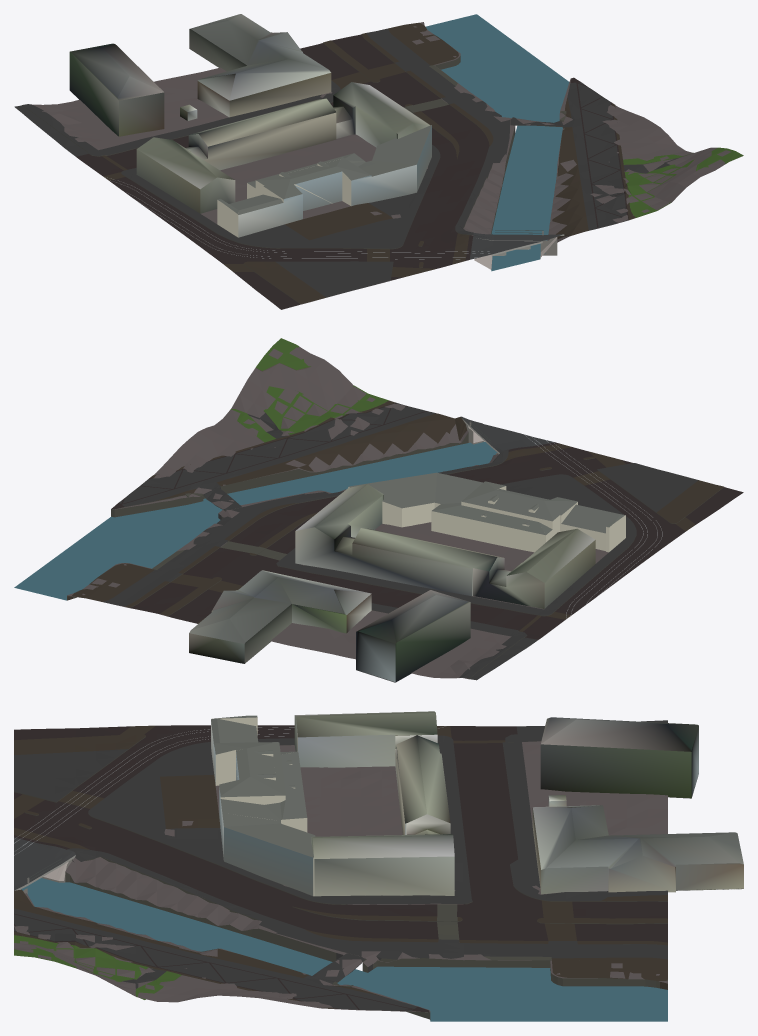
The picture shows the model from 3 angles, top to bottom: view 1: azimuth 30°, elevation 25°; view 2: azimuth 150°, elevation 25°; view 3: azimuth 270°, elevation 25°; orthographic projection. The views are drawn at different scales.
Parts seen in each view (by area): view 1: c_p02_p00; view 2: c_p02_p00; view 3: c_p02_p00, c_p02_p00_bridge_clipped_0.
Part boxes in pixels (x1,y1,x2,y2): c_p02_p00: [14, 14, 743, 309]; c_p02_p00: [14, 338, 743, 682]; c_p02_p00: [14, 711, 743, 1021]; c_p02_p00_bridge_clipped_0: [14, 837, 85, 906].
Bounding box in the file's own units: 128 × 16.15 × 143.
